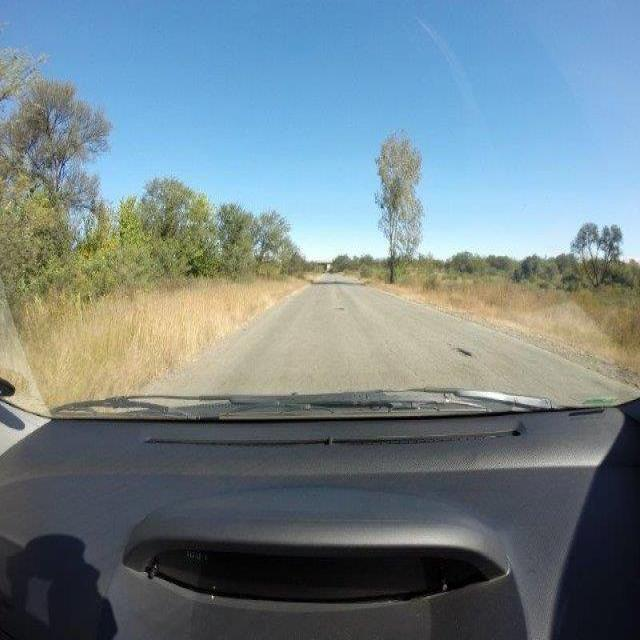lubang: (454, 343, 475, 360), (333, 302, 348, 316)
